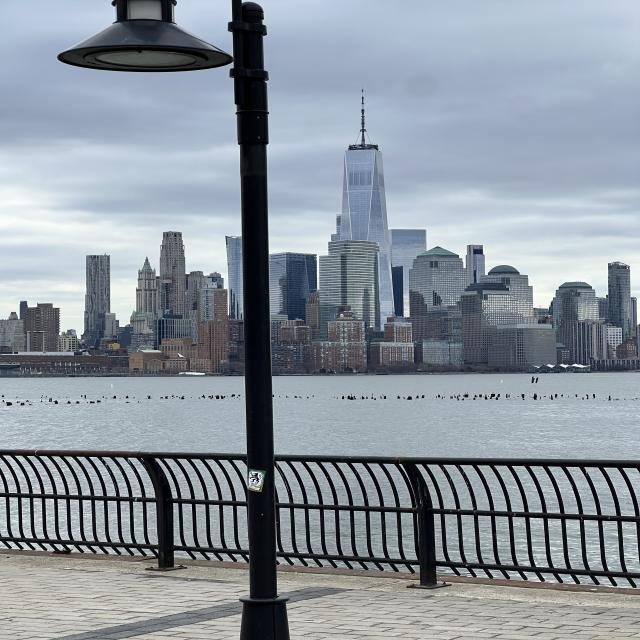WTC: (340, 88, 387, 239)
